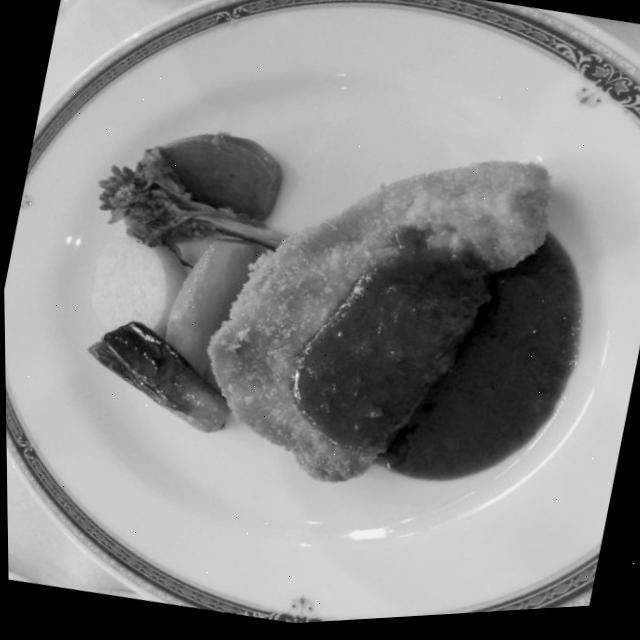炸货点心: (181, 134, 539, 518)
熟制海鲜: (181, 134, 539, 518)
